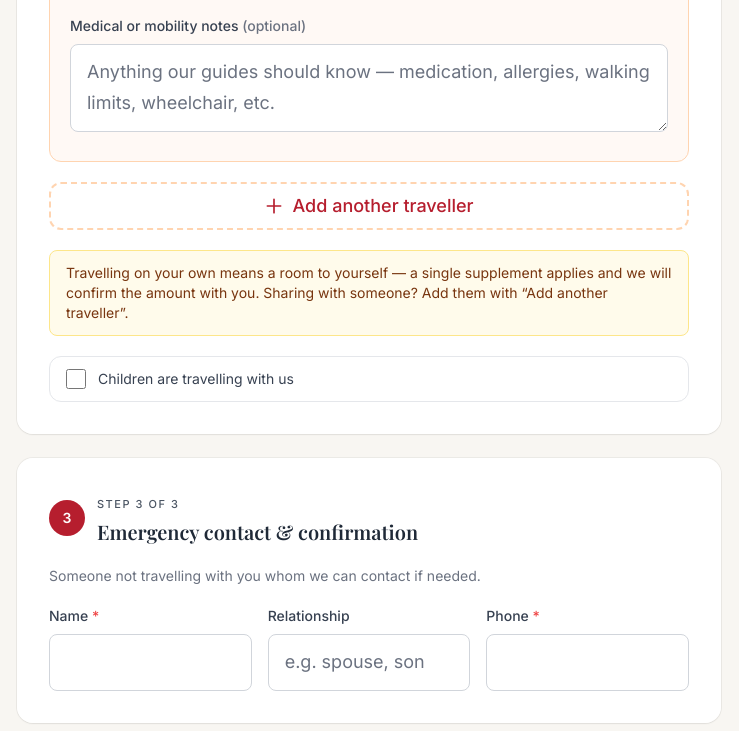
Test case: rooming › reveals the children notes field when children are travelling
(page scrolled)
Click the checkbox labelled "Children are travelling with us": (76, 379) [66,369,86,389]
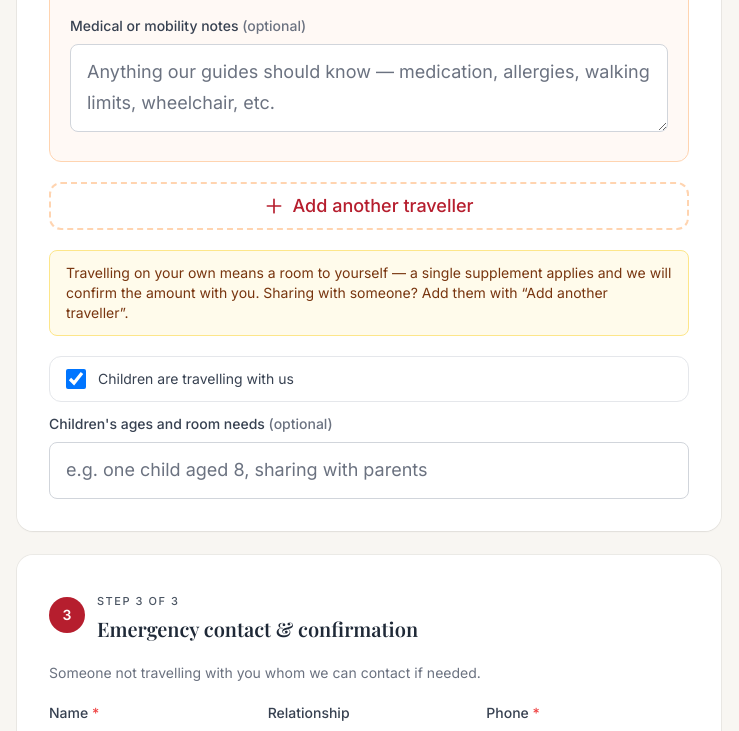
Expected: the field labelled "Children's ages and room needs (optional)" is shown, [49,442,689,499]
